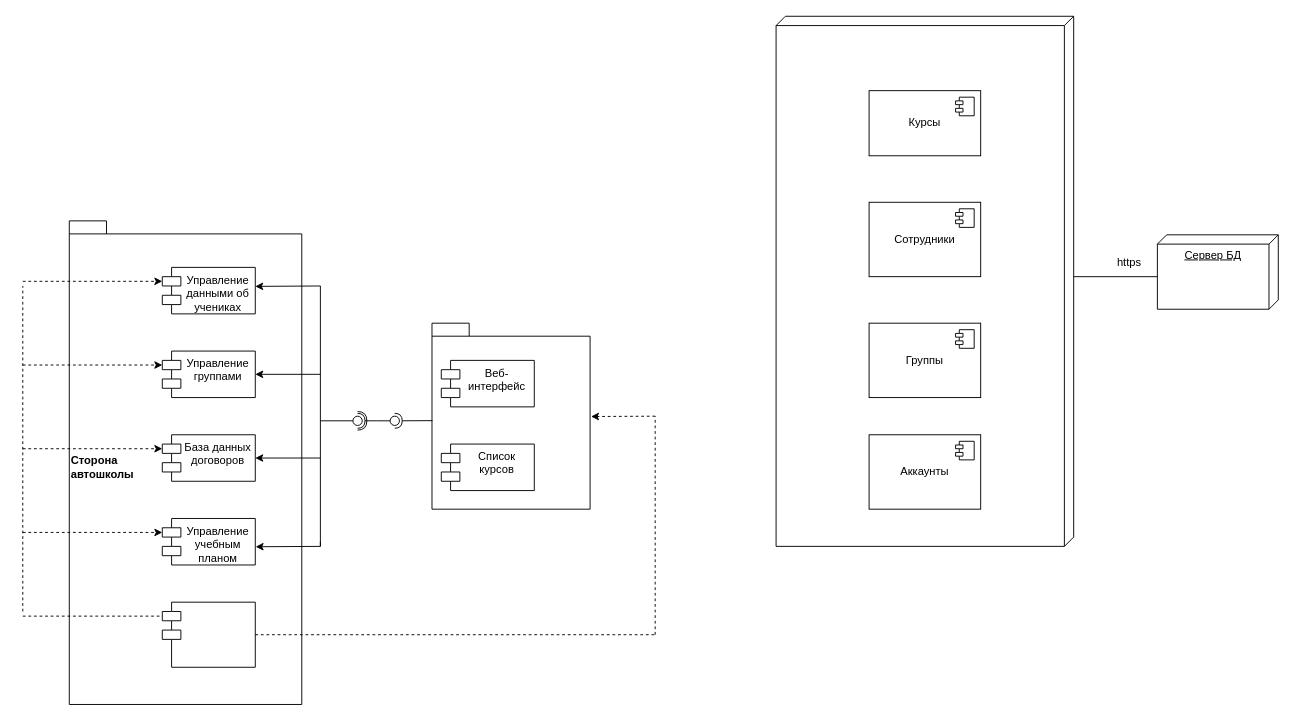
The diagram is 1295 pixels wide and 721 high, and some of its shapes have lost their labels. The box of each missing label's shape, as (x1, y1, x2, y2) in pixels:
<<ApplicationServer>> АдминистрированиеАвтошколы: (775, 15, 1074, 546)
Мониторинг и управление договорами учеников: (161, 601, 255, 667)
Сторона ученика: (431, 322, 590, 509)
